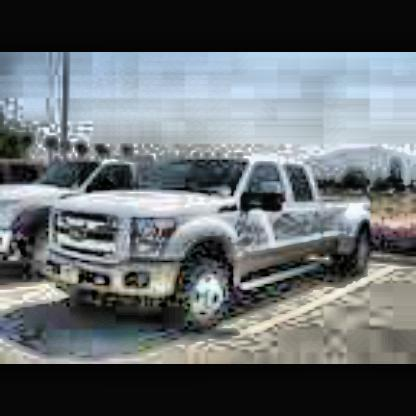Ford F-450 Super Duty Crew Cab 2012: (42, 157, 385, 339)
